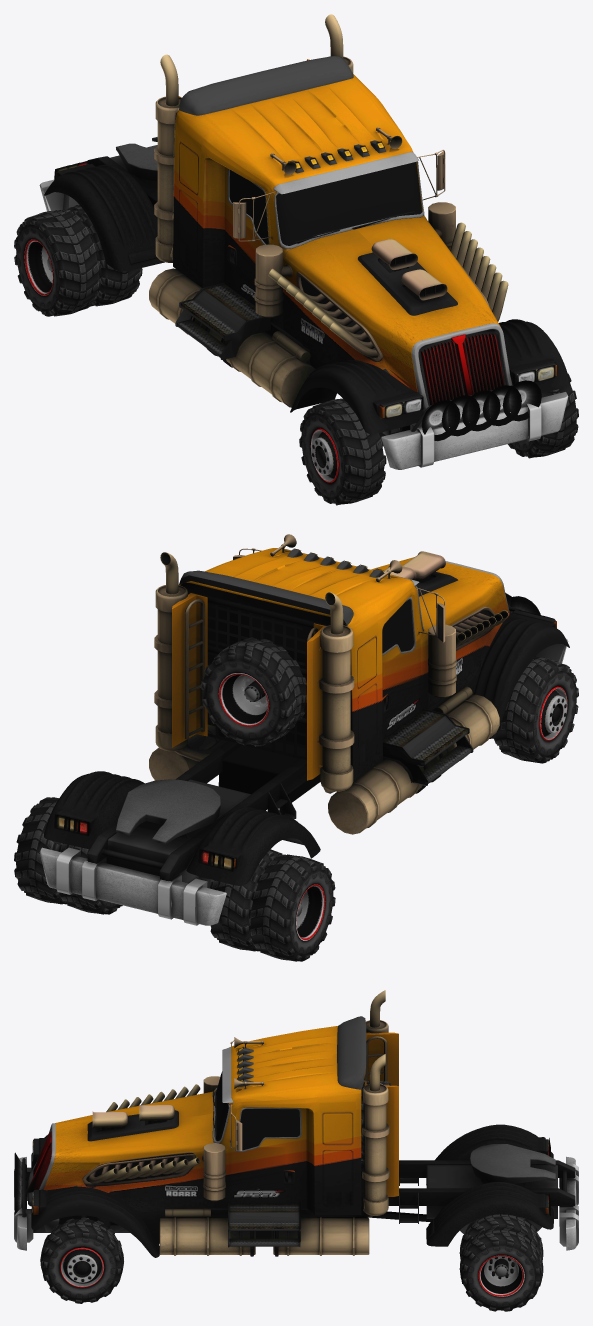
The model's file is Truck.fbx.
3 renders of one model, top to bottom at view 1: azimuth 30°, elevation 25°; view 2: azimuth 150°, elevation 25°; view 3: azimuth 270°, elevation 25°, orthographic. The views are drawn at different scales.
Parts seen in each view (by area): view 1: Body, BR, FR, FL; view 2: Body, BR, FR, BL; view 3: Body, BL, FL.
Part boxes in pixels (left/top/right/bottom): Body: left=39, top=14, right=569, bottom=469; BR: left=14, top=204, right=142, bottom=316; FR: left=299, top=398, right=386, bottom=505; FL: left=507, top=373, right=578, bottom=458; Body: left=39, top=534, right=569, bottom=925; BR: left=210, top=849, right=335, bottom=961; FR: left=494, top=656, right=578, bottom=763; BL: left=14, top=797, right=122, bottom=914; Body: left=14, top=990, right=578, bottom=1257; BL: left=459, top=1214, right=543, bottom=1311; FL: left=40, top=1217, right=123, bottom=1303.
Bounding box in the file's own units: 3218 × 3372 × 7222.
